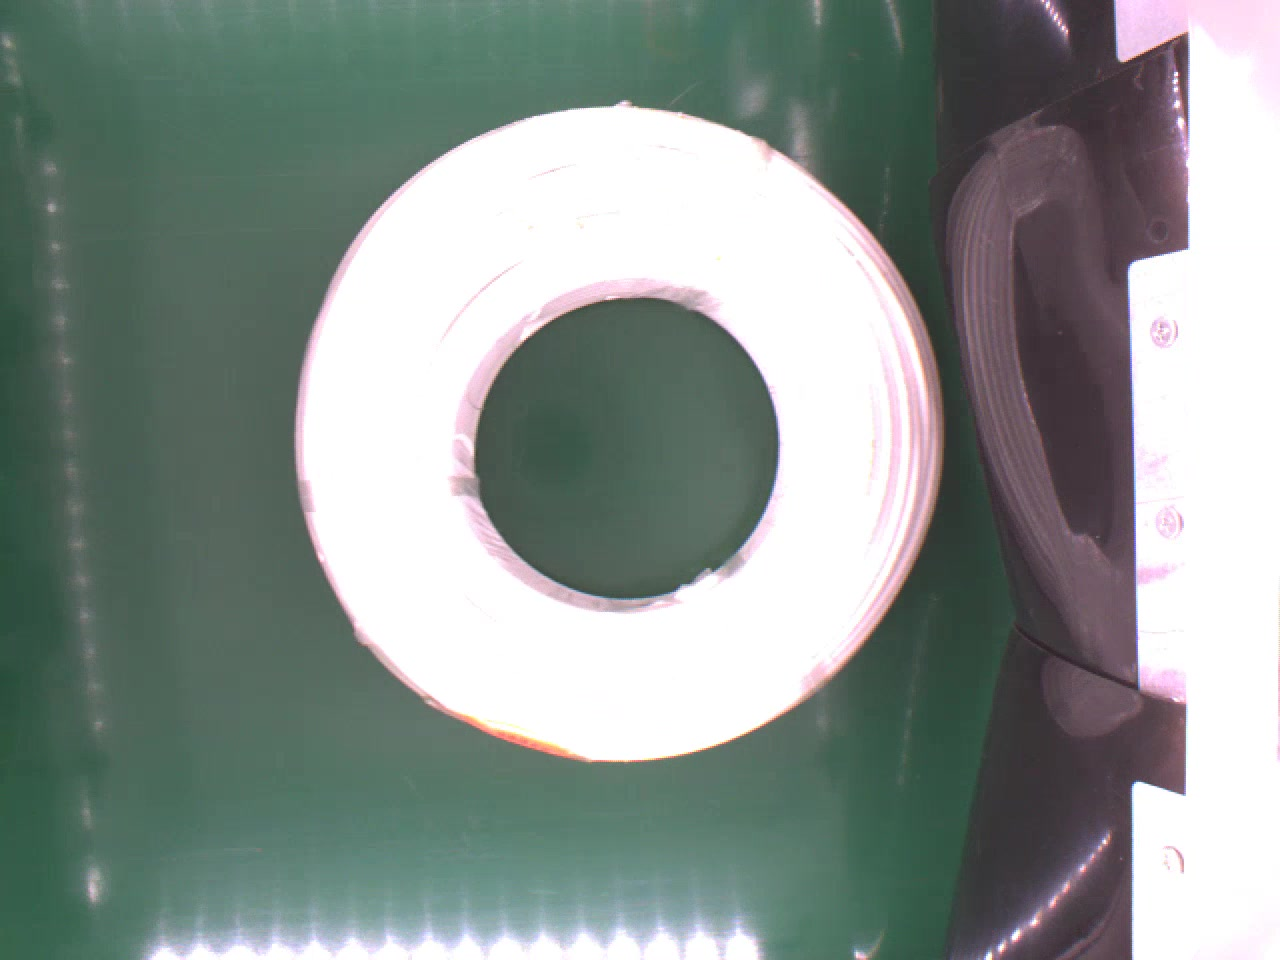white: (289, 104, 955, 789)
